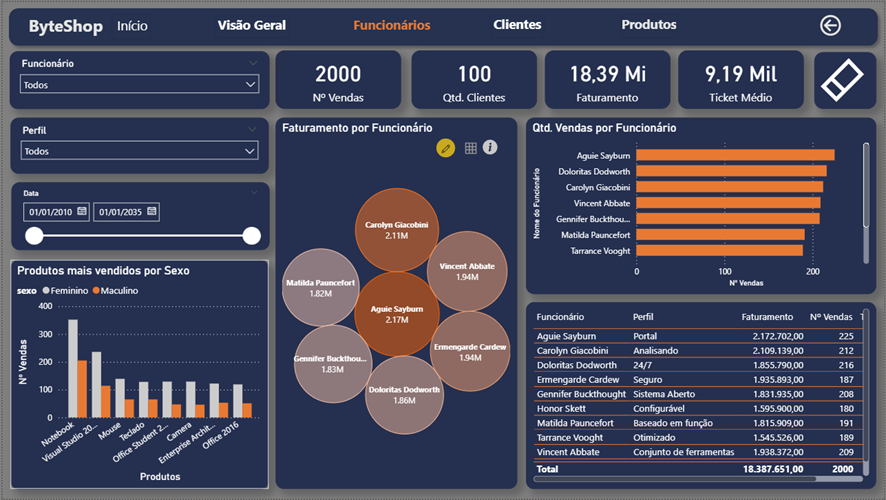

The page's visual inventory and layout, read from the dashboard file:
{"tool":"powerbi","page":{"name":"Funcionários","canvas":[1280,720],"ordinal":2},"visuals":[{"type":"clusteredColumnChart","title":"Produtos mais vendidos por Sexo","fields":{"Category":["public dim_produto.nm_produto"],"Y":["_Medidas.Nº Vendas"],"Series":["public dim_funcionario.sexo"]},"box":[11.2,373.8,375,332.5],"z":0},{"type":"card","fields":{"Values":["_Medidas.Nº Vendas"]},"box":[396.2,70,182.5,85],"z":1000},{"type":"actionButton","box":[1178.8,72.5,90,82.5],"z":2000},{"type":"slicer","fields":{"Values":["public dim_funcionario.nm_funcionario"]},"box":[10,71.2,377.5,83.8],"z":3000},{"type":"slicer","fields":{"Values":["public dim_funcionario.perfil"]},"box":[11.2,167.5,375,81.2],"z":4000},{"type":"slicer","fields":{"Values":["public dim_data.desc_data_completa"]},"box":[12.5,261.2,375,98.8],"z":5000},{"type":"clusteredBarChart","title":"Qtd. Vendas por Funcionário","fields":{"Y":["_Medidas.Nº Vendas"],"Category":["public dim_funcionario.nm_funcionario"]},"box":[760,167.5,508.8,256.2],"z":6000},{"type":"shape","box":[0,0,1280,72.5],"z":7000},{"type":"textbox","box":[32.5,12.5,125,48.8],"z":8000},{"type":"textbox","box":[307,15.2,108.8,38.8],"z":9000},{"type":"textbox","box":[497,15.2,135,41.2],"z":10000},{"type":"textbox","box":[707.5,13.8,80,41.2],"z":11000},{"type":"textbox","box":[885.8,14,105,41.2],"z":12000},{"type":"card","fields":{"Values":["_Medidas.Qtd. Clientes"]},"box":[593.8,70,182.5,85],"z":13000},{"type":"card","fields":{"Values":["_Medidas.Faturamento"]},"box":[787.5,70,182.5,85],"z":14000},{"type":"card","fields":{"Values":["_Medidas.Ticket Médio"]},"box":[981.2,70,182.5,85],"z":15000},{"type":"actionButton","box":[307.5,18.8,108.8,35],"z":16000},{"type":"actionButton","box":[707.5,17.5,80,36.2],"z":17000},{"type":"actionButton","box":[896.2,16.2,85,37.5],"z":18000},{"type":"tableEx","fields":{"Values":["public dim_funcionario.nm_funcionario","public dim_funcionario.perfil","_Medidas.Faturamento","_Medidas.Nº Vendas","_Medidas.Ticket Médio"]},"box":[760,435,508.8,271.2],"z":19000},{"type":"packedBubble563FBEFA65CC43A48496B6BB533D9890","title":"Faturamento por Funcionário","fields":{"category":["public dim_funcionario.nm_funcionario"],"measure":["_Medidas.Faturamento"]},"box":[396.2,167.5,351.2,538.8],"z":20000},{"type":"textbox","box":[161.2,16.2,65,41.2],"z":21000},{"type":"actionButton","box":[157.5,16.2,58.8,38.8],"z":22000},{"type":"actionButton","box":[1182.5,13.8,41.2,40],"z":23000}]}

Visuals, with their boxes in screenshot pixels (x1, y1, x2, y2), scaled from the page's 1280x720 canvas onto the 886x500 screenshot:
"Produtos mais vendidos por Sexo" clusteredColumnChart: BBox(8, 260, 267, 490)
card - _Medidas.Nº Vendas: BBox(274, 49, 401, 108)
actionButton: BBox(816, 50, 878, 108)
slicer - public dim_funcionario.nm_funcionario: BBox(7, 49, 268, 108)
slicer - public dim_funcionario.perfil: BBox(8, 116, 267, 173)
slicer - public dim_data.desc_data_completa: BBox(9, 181, 268, 250)
"Qtd. Vendas por Funcionário" clusteredBarChart: BBox(526, 116, 878, 294)
shape: BBox(0, 0, 885, 50)
textbox: BBox(22, 9, 109, 43)
textbox: BBox(213, 11, 288, 38)
textbox: BBox(344, 11, 437, 39)
textbox: BBox(490, 10, 545, 38)
textbox: BBox(613, 10, 686, 38)
card - _Medidas.Qtd. Clientes: BBox(411, 49, 537, 108)
card - _Medidas.Faturamento: BBox(545, 49, 671, 108)
card - _Medidas.Ticket Médio: BBox(679, 49, 805, 108)
actionButton: BBox(213, 13, 288, 37)
actionButton: BBox(490, 12, 545, 37)
actionButton: BBox(620, 11, 679, 37)
tableEx - public dim_funcionario.nm_funcionario x public dim_funcionario.perfil: BBox(526, 302, 878, 490)
"Faturamento por Funcionário" packedBubble563FBEFA65CC43A48496B6BB533D9890: BBox(274, 116, 517, 490)
textbox: BBox(112, 11, 157, 40)
actionButton: BBox(109, 11, 150, 38)
actionButton: BBox(819, 10, 847, 37)
